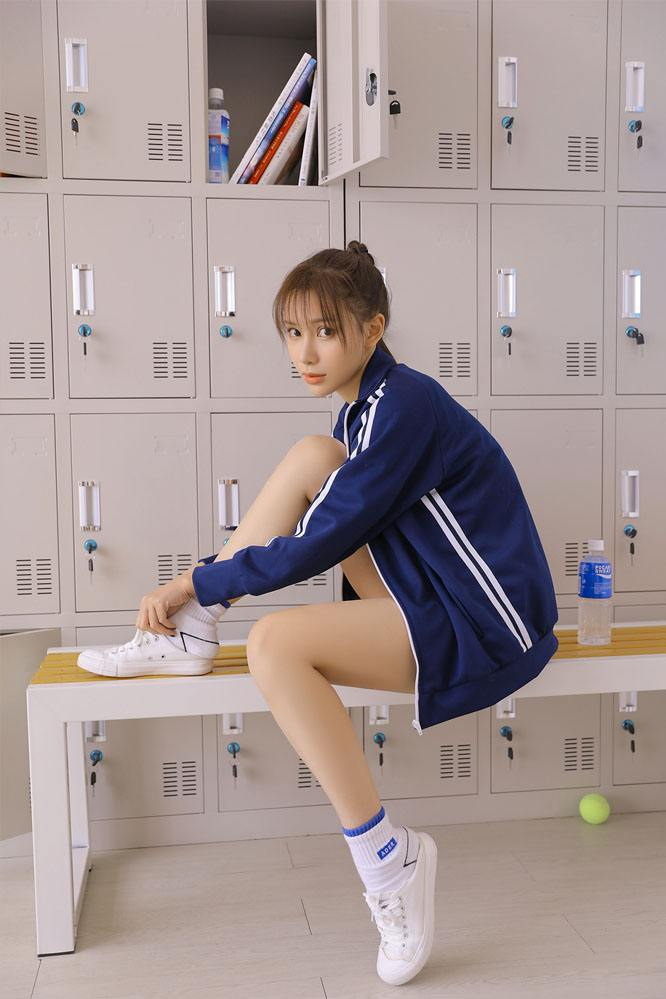person: (183, 236, 554, 921)
